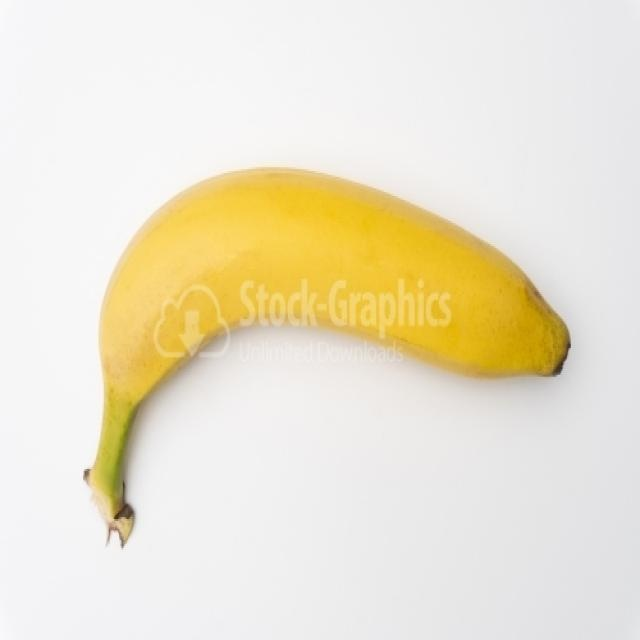agrume: (77, 160, 575, 536)
